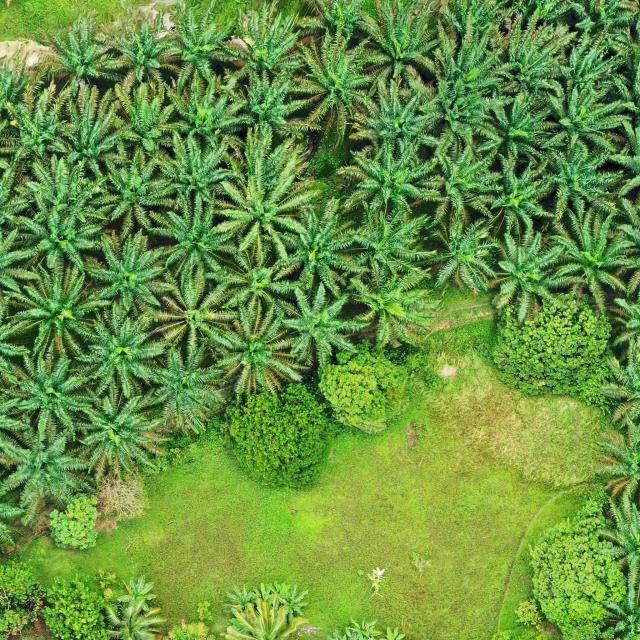Tree: (527, 510, 628, 640), (218, 384, 336, 491), (213, 159, 322, 272), (492, 293, 610, 395), (544, 203, 640, 324), (1, 261, 109, 361), (272, 194, 376, 297), (335, 68, 449, 160), (210, 298, 309, 401), (128, 340, 231, 439), (70, 384, 172, 482), (72, 298, 167, 398), (333, 264, 446, 348), (341, 198, 441, 292), (478, 219, 567, 322), (336, 138, 440, 226), (0, 349, 95, 445), (0, 424, 91, 524), (285, 36, 376, 135), (83, 229, 179, 320), (348, 0, 446, 88), (317, 343, 408, 436), (471, 148, 563, 238), (269, 282, 365, 368), (416, 0, 506, 91), (416, 128, 502, 222), (421, 62, 517, 146), (137, 200, 235, 282), (16, 151, 114, 232), (533, 139, 626, 223), (88, 148, 178, 234), (220, 116, 314, 198), (417, 205, 503, 293), (536, 79, 631, 153), (108, 78, 194, 158), (154, 70, 252, 140), (144, 127, 240, 198), (13, 201, 102, 277), (34, 14, 118, 88), (105, 14, 187, 89), (47, 114, 132, 182), (220, 7, 304, 74), (486, 87, 556, 165), (236, 66, 309, 140), (50, 83, 120, 159), (162, 5, 237, 75), (542, 31, 620, 93), (156, 281, 222, 352), (494, 37, 568, 97), (40, 577, 110, 640), (0, 559, 44, 640), (221, 600, 306, 640), (46, 490, 99, 550), (103, 600, 166, 640), (117, 575, 157, 612), (278, 583, 310, 619), (222, 581, 254, 611), (345, 617, 382, 640), (266, 581, 291, 607), (251, 582, 277, 604)
